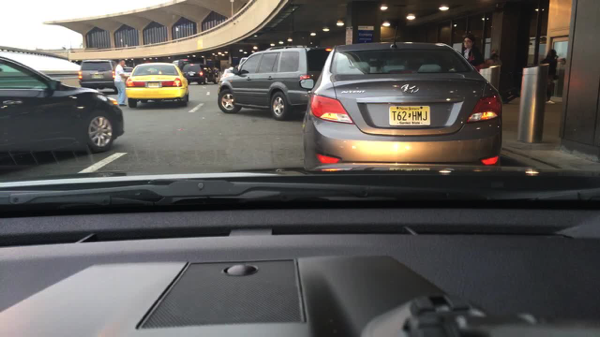car: (296, 26, 504, 169), (0, 57, 125, 159), (217, 44, 328, 121), (125, 62, 191, 107), (74, 58, 117, 91), (182, 64, 222, 83), (169, 57, 194, 69), (237, 57, 251, 72), (123, 67, 134, 79)
person: (539, 47, 557, 106), (461, 32, 485, 73), (114, 59, 128, 106), (484, 50, 501, 69), (220, 67, 234, 85)
